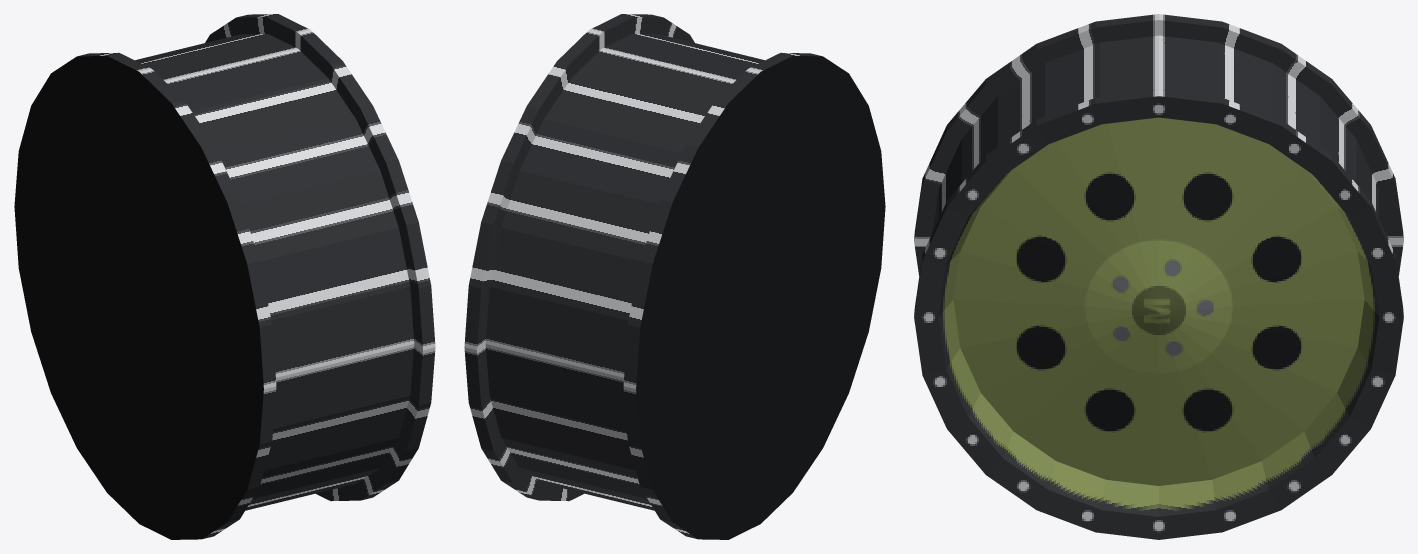
File: mandacaru_trava_17.glb
3 views of the same model, side by side, from view 1: azimuth 30°, elevation 25°; view 2: azimuth 150°, elevation 25°; view 3: azimuth 270°, elevation 25° (orthographic).
Parts seen in each view (by area): view 1: mandacaru_trava_17; view 2: mandacaru_trava_17; view 3: mandacaru_trava_17.
Part boxes in pixels (bbox=[...]): mandacaru_trava_17: bbox=[14, 14, 435, 539]; mandacaru_trava_17: bbox=[464, 14, 885, 539]; mandacaru_trava_17: bbox=[914, 14, 1403, 539].
Size of the model in its own units: 0.192 by 0.4836 by 0.4836.
Materials: 1 (1 with a texture image).
